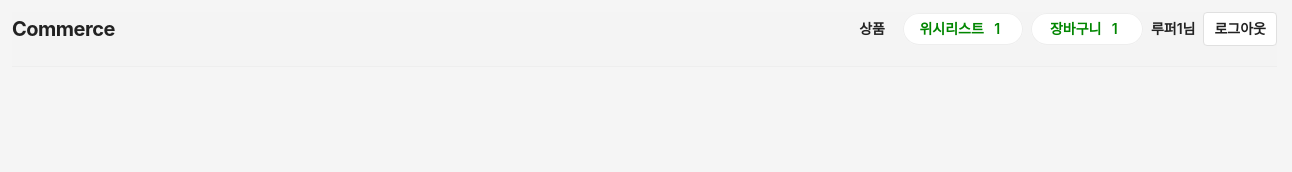
it: CommerceHeader › 로그인 상태에서 로그아웃하면 세션과 위시리스트를 비우고 장바구니는 유지한다
Expected: the text "루퍼1님" is shown, [1151,19,1196,39]
Expected: the link labelled "장바구니 1" is shown, [1031,13,1143,45]
Click the button "로그아웃" at (1240, 29), box [1204,12,1277,46]
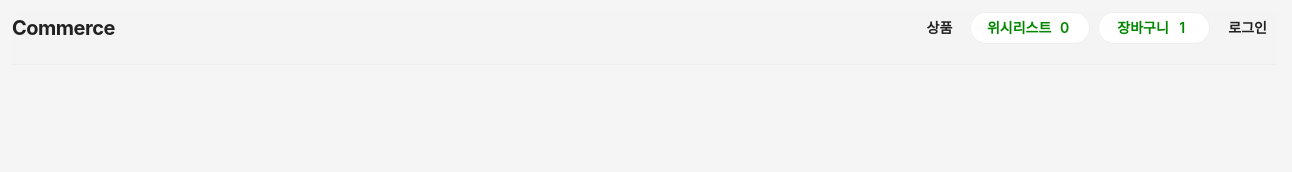
Expected: the link labelled "장바구니 1" is shown, [1098,12,1210,44]
Expected: the link "로그인" is shown, [1228,19,1267,36]
Expected: the link labelled "위시리스트 0" is shown, [970,12,1090,44]
